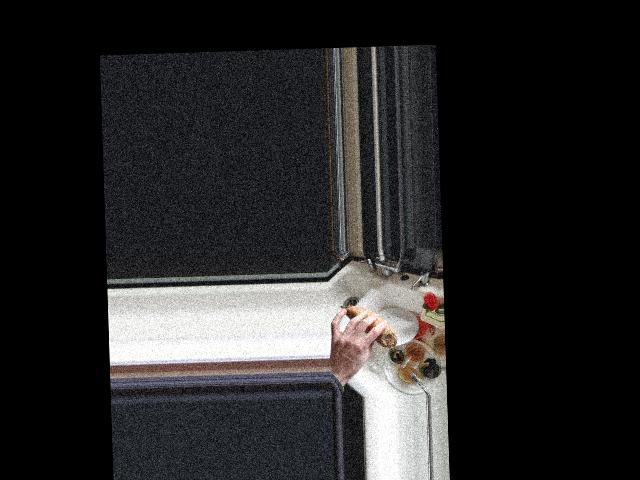sweet_potato: (339, 304, 395, 349)
